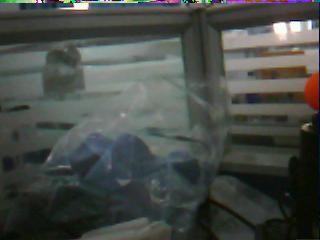oball: (304, 71, 320, 111)
